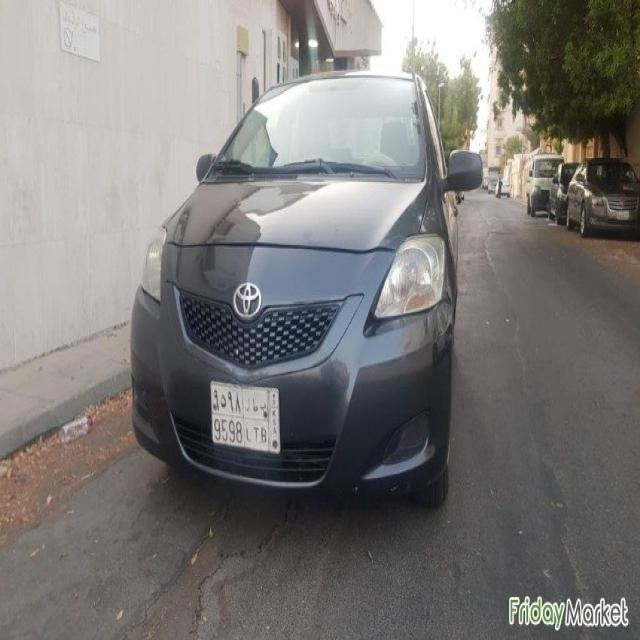license_plate: (209, 380, 282, 457)
